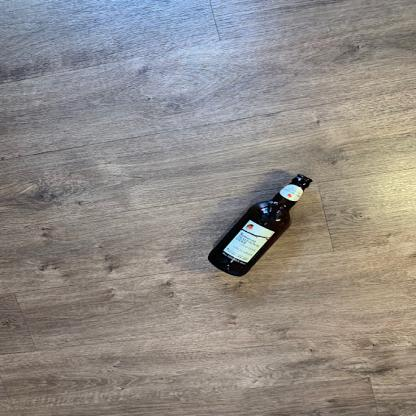trash: (205, 174, 313, 277)
